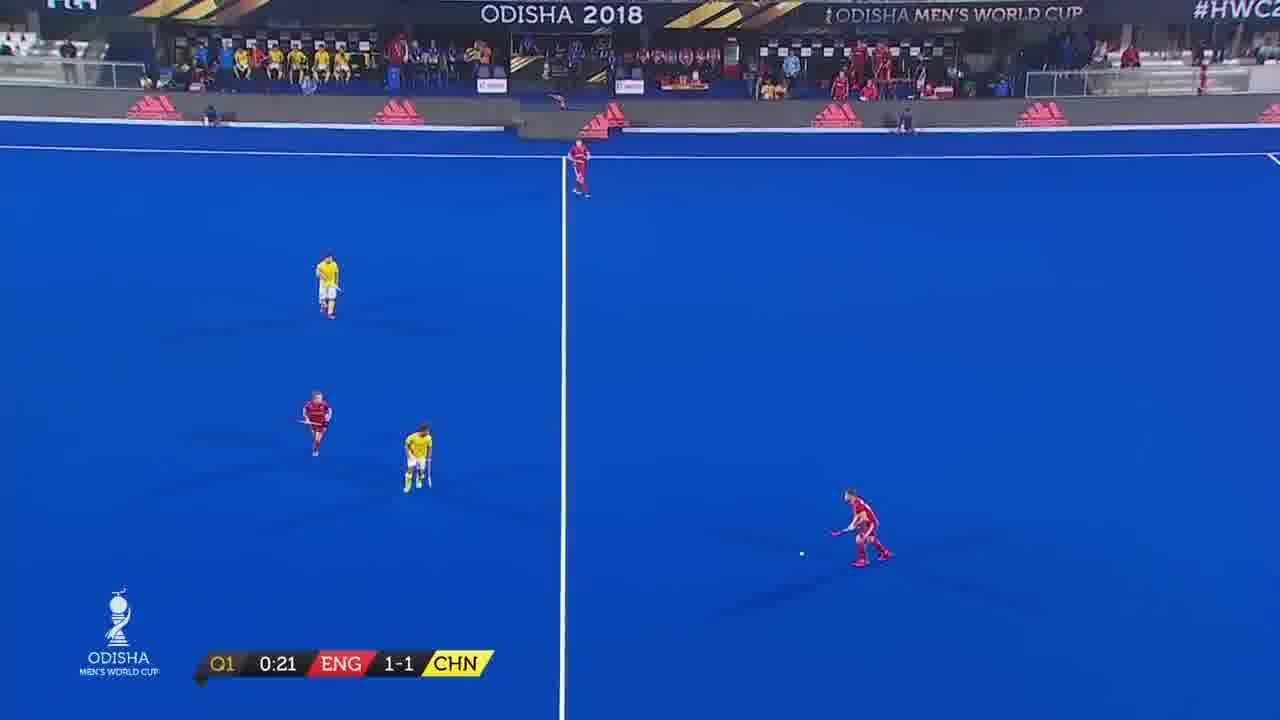ball: (798, 545, 812, 566)
